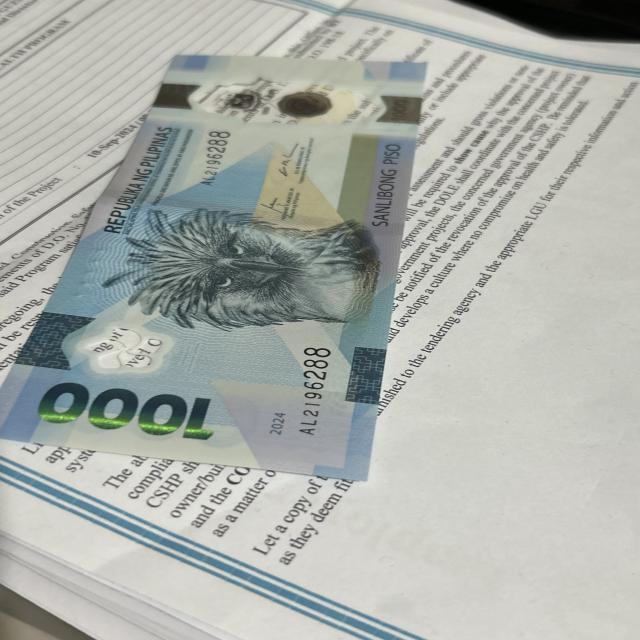clear_window: (177, 77, 394, 134)
eagle: (113, 208, 378, 326)
sampaguita: (81, 324, 186, 376)
serial_number: (275, 337, 340, 454)
